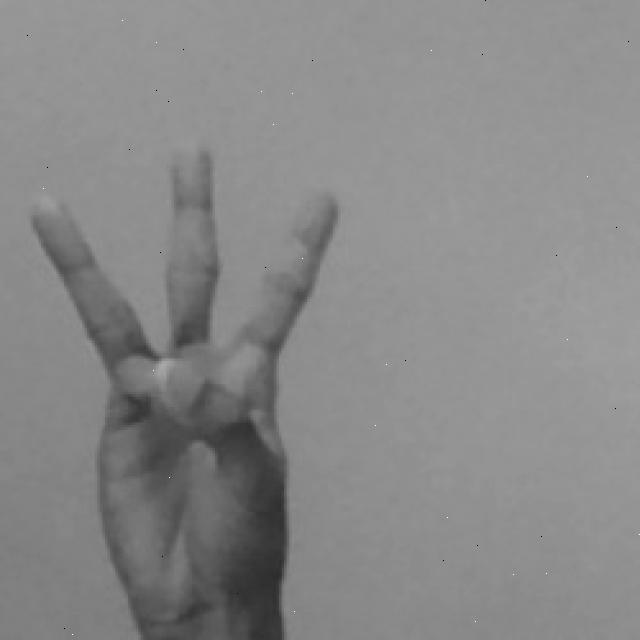W: (25, 135, 343, 640)
